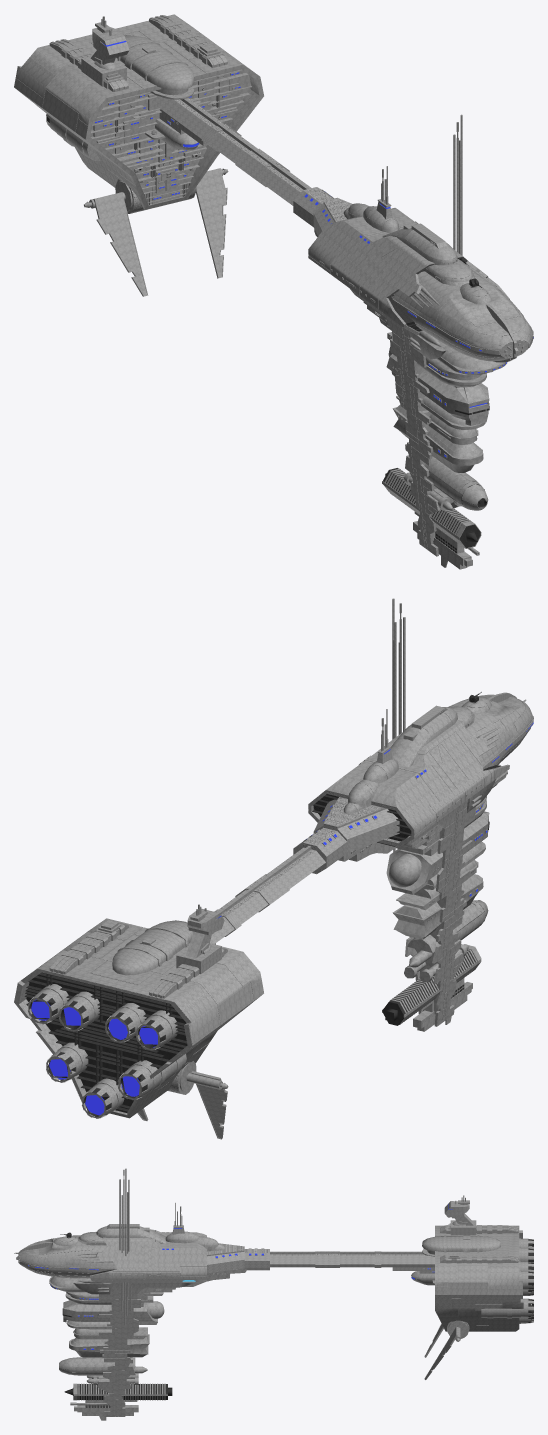
The model's file is frigate.glb.
3 renders of one model, top to bottom at view 1: azimuth 30°, elevation 25°; view 2: azimuth 150°, elevation 25°; view 3: azimuth 270°, elevation 25°, orthographic. The views are drawn at different scales.
Parts seen in each view (by area): view 1: GreeblesFrontSection2_0, BackSection_0, Engines_2, BackSectionExtras_1; view 2: GreeblesFrontSection2_0, Engines_2, BackSection_1, BackSection_0, BackSectionExtras_1; view 3: GreeblesFrontSection2_0, Engines_2, BackSection_0.
Boxes of the visible parts, x1=… form: GreeblesFrontSection2_0: x1=14, y1=14, x2=533, y2=569; BackSection_0: x1=14, y1=31, x2=263, y2=209; Engines_2: x1=46, y1=116, x2=489, y2=553; BackSectionExtras_1: x1=95, y1=41, x2=533, y2=457; GreeblesFrontSection2_0: x1=18, y1=598, x2=533, y2=1139; Engines_2: x1=24, y1=692, x2=500, y2=1116; BackSection_1: x1=26, y1=972, x2=187, y2=1112; BackSection_0: x1=14, y1=927, x2=260, y2=1118; BackSectionExtras_1: x1=31, y1=722, x2=533, y2=1115; GreeblesFrontSection2_0: x1=14, y1=1168, x2=533, y2=1420; Engines_2: x1=60, y1=1232, x2=533, y2=1407; BackSection_0: x1=435, y1=1230, x2=523, y2=1331.
Size of the model in its own units: 145 by 333 by 599.
Materials: 3 (3 with a texture image).
